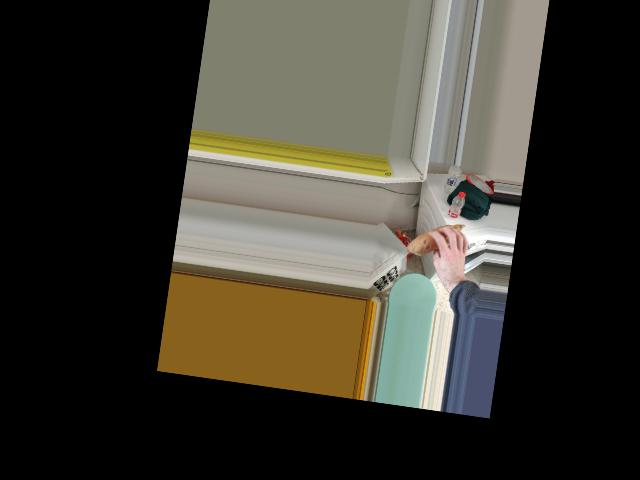sweet_potato: (408, 219, 467, 262)
